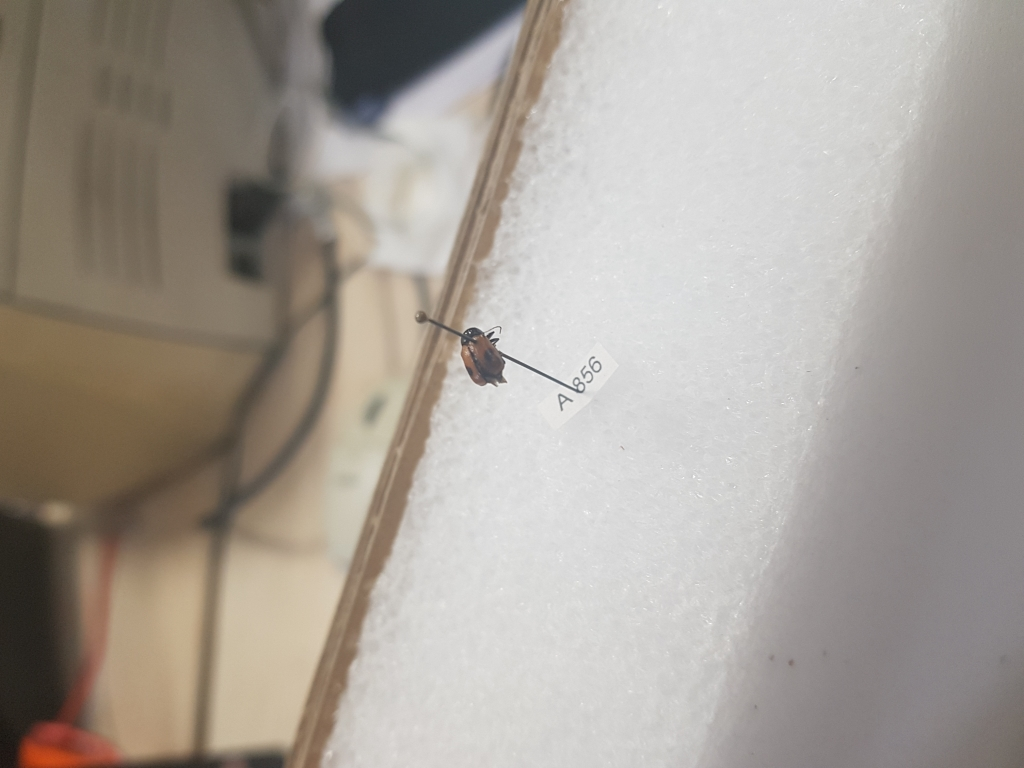Cryptocephalus_bipunctatus: (454, 325, 514, 391)
